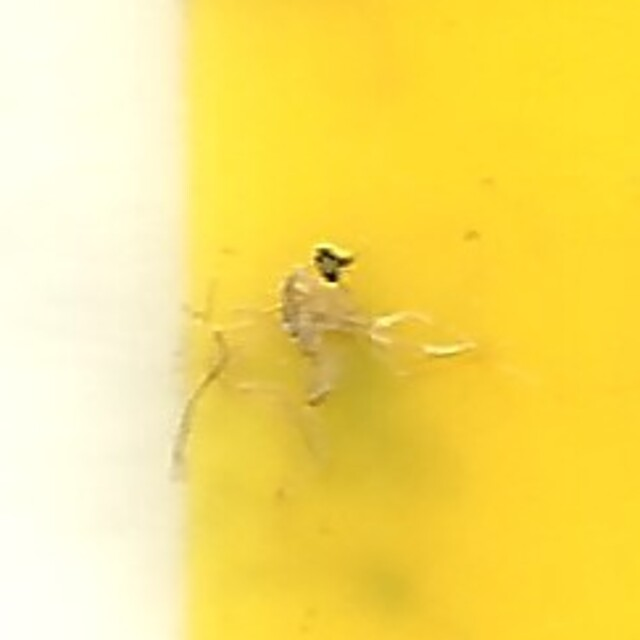Nematocera: (263, 243, 377, 397)
